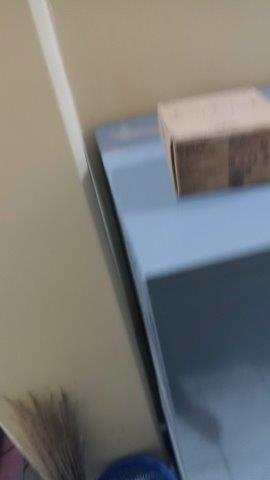kardus: (158, 87, 270, 198)
